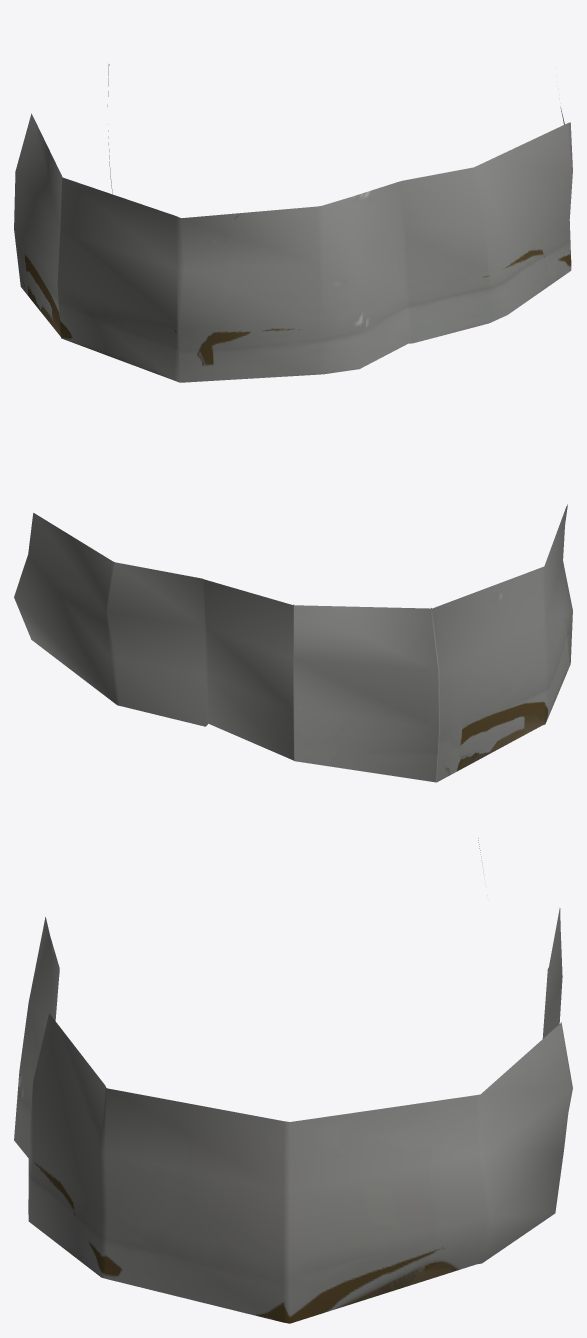
3 renders of one model, top to bottom at view 1: azimuth 30°, elevation 25°; view 2: azimuth 150°, elevation 25°; view 3: azimuth 270°, elevation 25°, orthographic. The views are drawn at different scales.
Parts seen in each view (by area): view 1: geometry_0; view 2: geometry_0; view 3: geometry_0.
Boxes of the visible parts, box(x1,y1,x2,y2) form: geometry_0: box(14, 64, 572, 382); geometry_0: box(14, 504, 572, 782); geometry_0: box(14, 838, 572, 1323).
Size of the model in its own units: 0.3906 by 0.1268 by 0.2836.
Materials: 1 (1 with a texture image).
